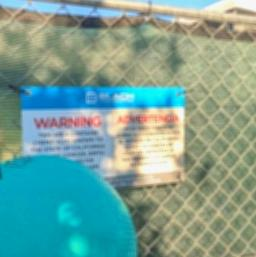algae: (0, 153, 138, 257)
